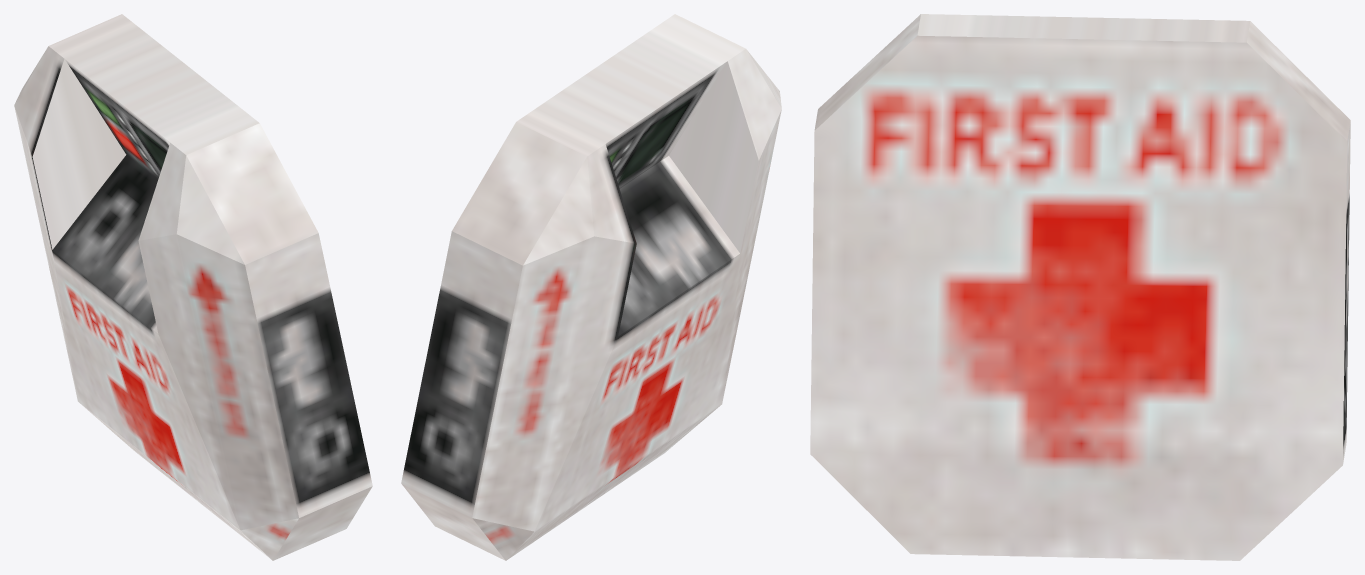
Rendered from p_medkit2.glb.
3 views of the same model, side by side, from view 1: azimuth 30°, elevation 25°; view 2: azimuth 150°, elevation 25°; view 3: azimuth 270°, elevation 25° (orthographic). The views are drawn at different scales.
Visible parts, largest first — view 1: p_medkit2; view 2: p_medkit2; view 3: p_medkit2.
Boxes of the visible parts, x1=… form: p_medkit2: x1=14, y1=14, x2=372, y2=560; p_medkit2: x1=401, y1=14, x2=781, y2=560; p_medkit2: x1=810, y1=14, x2=1350, y2=560.
Size of the model in its own units: 5.43 by 11.67 by 11.63.
1 material, 1 textured.
